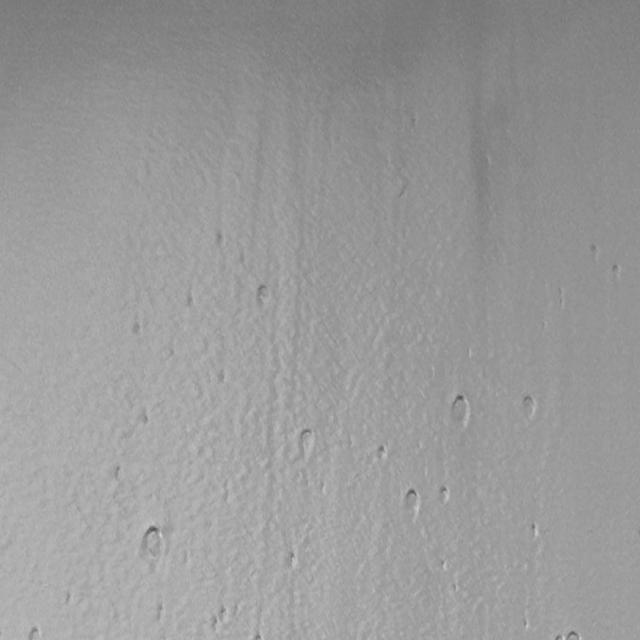pin holes: (138, 522, 170, 570), (446, 392, 472, 429), (294, 426, 318, 460), (401, 486, 423, 518), (519, 392, 541, 422), (252, 282, 272, 308), (130, 316, 149, 339), (214, 603, 231, 628), (527, 521, 546, 542), (436, 484, 454, 506), (609, 261, 626, 284), (214, 230, 229, 252), (288, 549, 302, 571), (25, 625, 43, 640), (376, 444, 390, 463), (555, 288, 567, 310), (587, 242, 600, 260), (563, 629, 585, 639), (156, 602, 166, 623), (113, 464, 123, 482), (142, 407, 150, 427), (64, 594, 75, 608), (218, 366, 225, 386), (187, 296, 195, 310), (440, 556, 447, 572), (523, 618, 530, 630), (255, 633, 263, 640), (555, 633, 562, 640)
